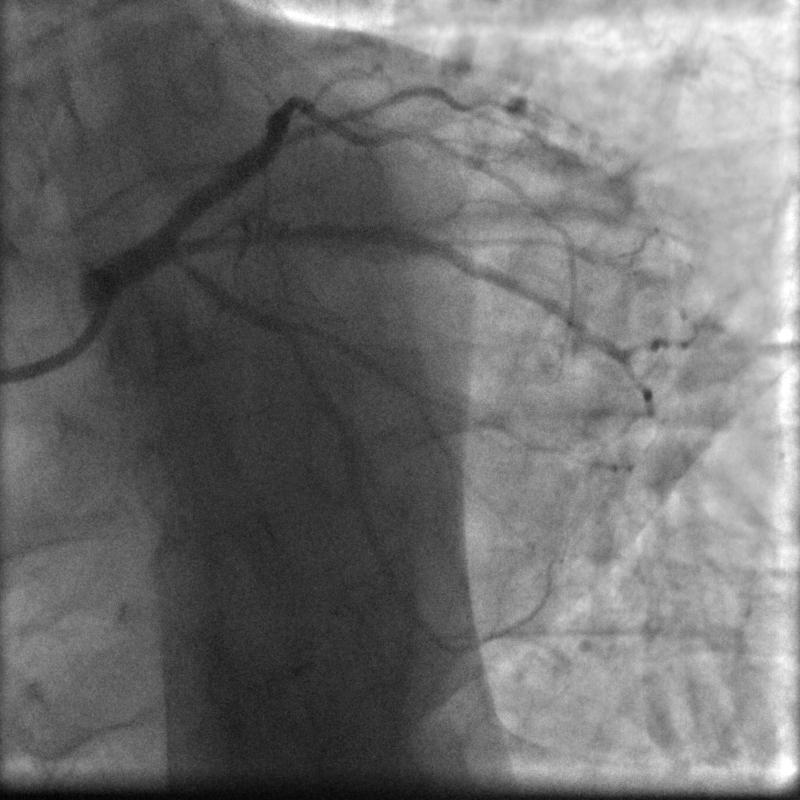Stenosis: (272, 89, 326, 118)
